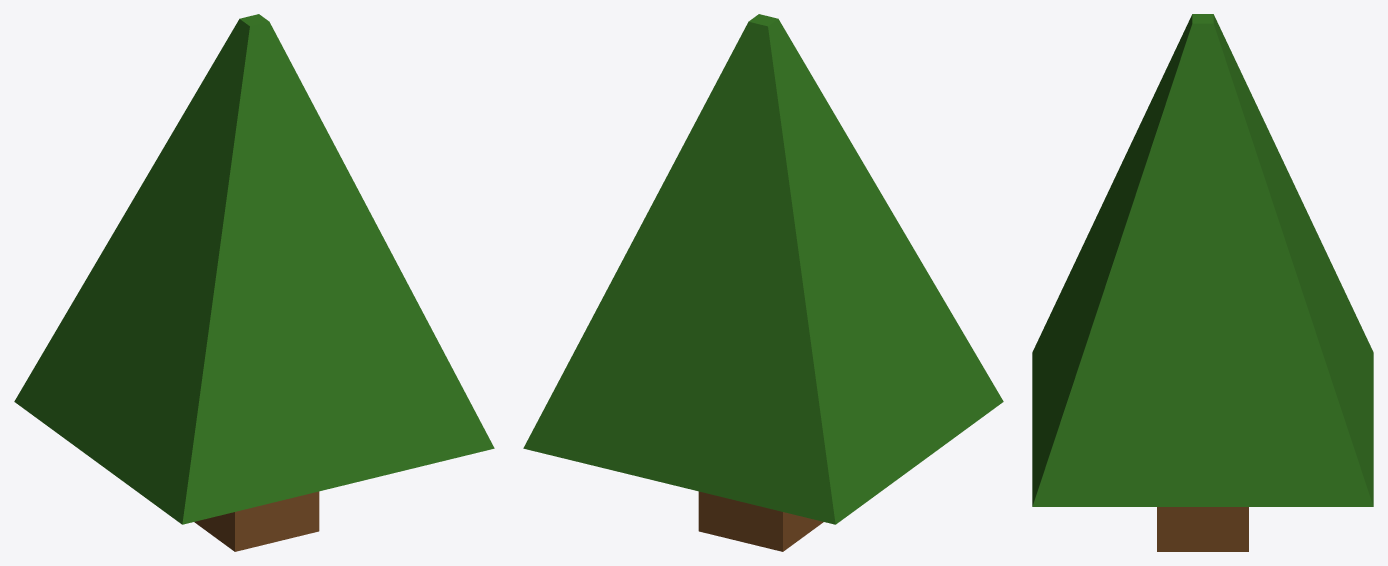
The model's file is 세모나무 2.fbx.
The picture shows the model from 3 angles, left to right: view 1: azimuth 30°, elevation 25°; view 2: azimuth 150°, elevation 25°; view 3: azimuth 270°, elevation 25°; orthographic projection.
Visible parts, largest first — view 1: Box003; view 2: Box003; view 3: Box003.
Boxes of the visible parts, left/top/right/bottom form: Box003: left=14, top=14, right=494, bottom=551; Box003: left=523, top=14, right=1003, bottom=551; Box003: left=1032, top=14, right=1373, bottom=551.
Size of the model in its own units: 15.51 by 23.95 by 14.46.
Materials: 1 (1 with a texture image).
